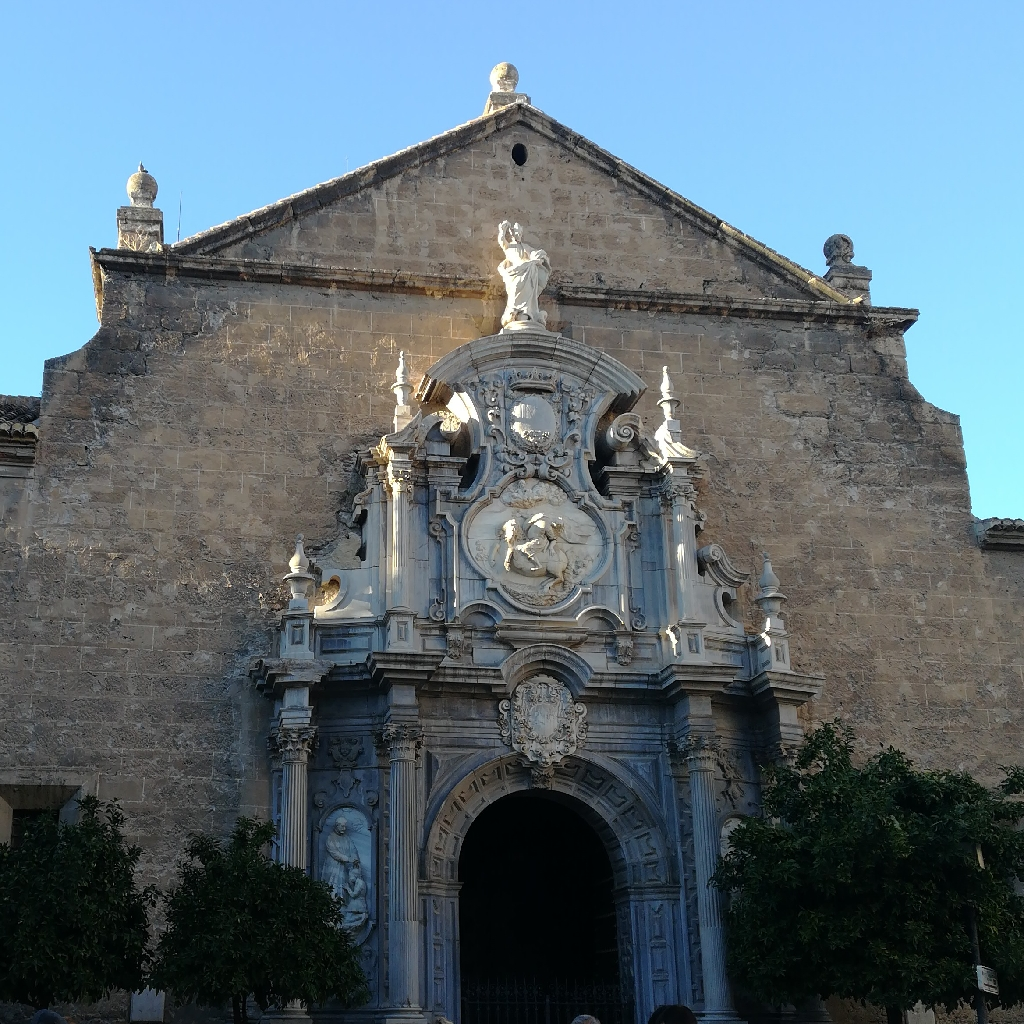arco-medio-punto: (449, 783, 638, 904)
